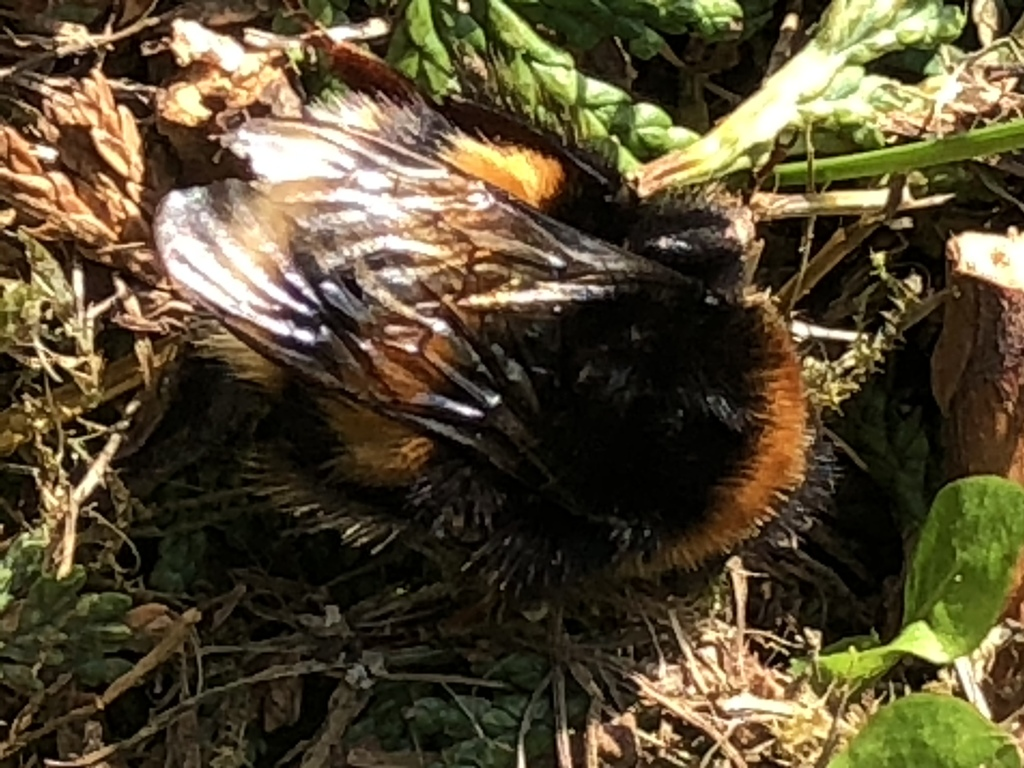bumblebee: (152, 41, 813, 585)
